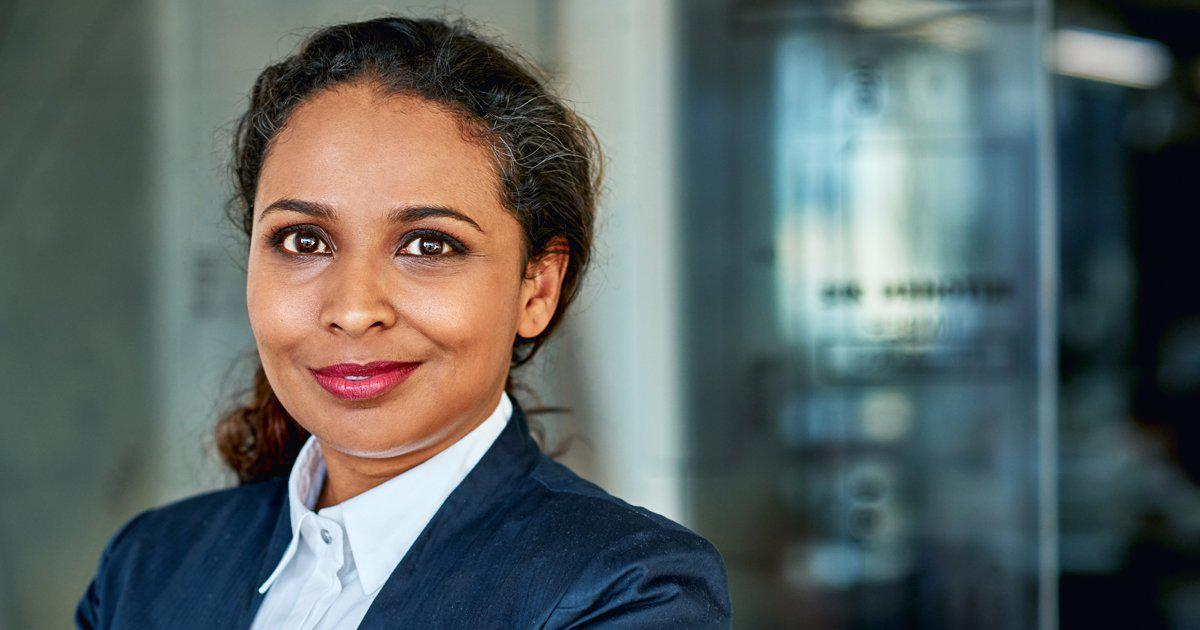Sober: (269, 123, 512, 437)
